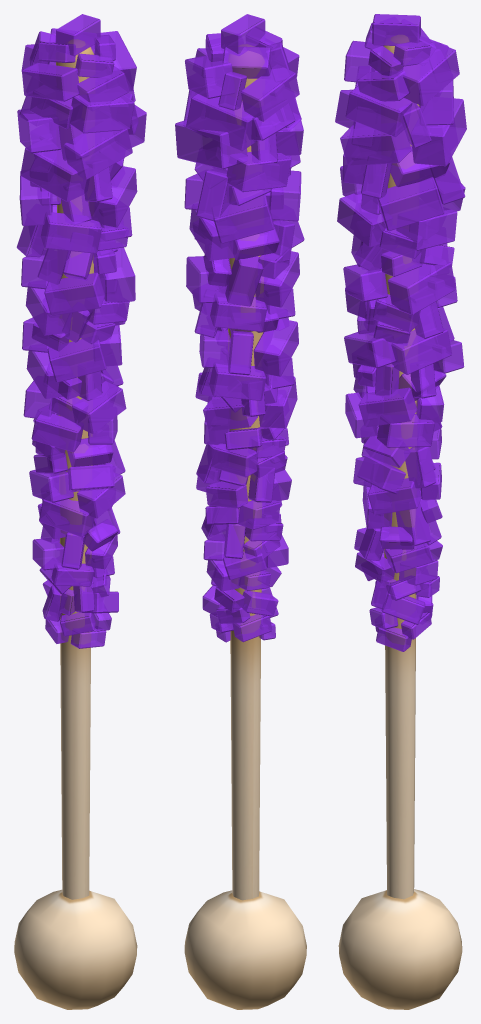
Rendered from Pop_Rock_Candy_Purple.FBX.
3 renders of one model, left to right at view 1: azimuth 30°, elevation 25°; view 2: azimuth 210°, elevation 25°; view 3: azimuth 330°, elevation 25°, orthographic.
Visible parts, largest first — view 1: Purple, Stick; view 2: Purple, Stick; view 3: Purple, Stick.
Boxes of the visible parts, x1,y1,x2,y2 form: Purple: [16, 14, 146, 648]; Stick: [14, 39, 137, 1009]; Purple: [175, 14, 304, 642]; Stick: [184, 44, 306, 1009]; Purple: [335, 14, 466, 651]; Stick: [338, 35, 462, 1009].
Bounding box in the file's own units: 12.36 × 100 × 11.79.
2 materials, 2 textured.
